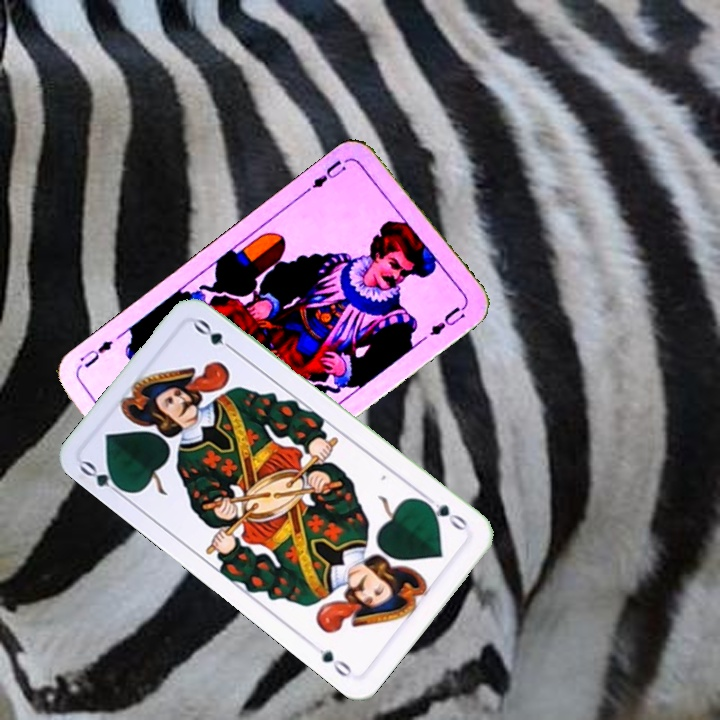EU: (308, 156, 349, 191)
GO: (76, 457, 131, 501), (420, 492, 470, 536)
